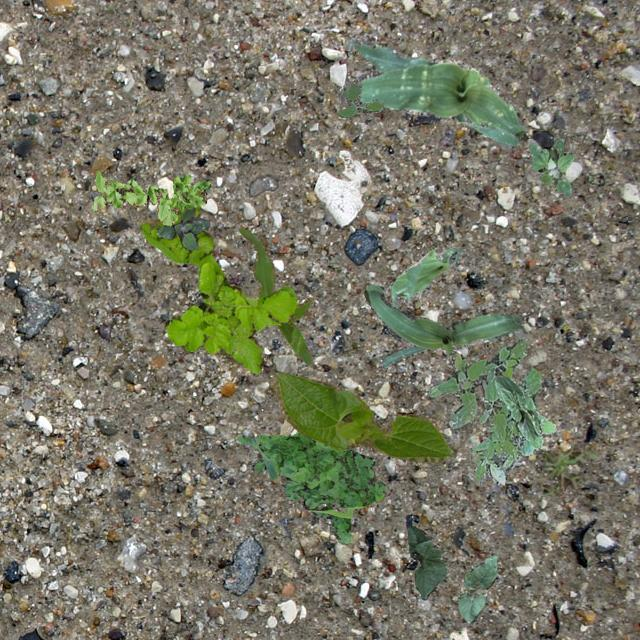crop: (338, 36, 524, 144), (273, 370, 452, 462), (364, 284, 522, 366), (238, 225, 312, 364), (389, 248, 458, 308), (494, 374, 540, 440), (407, 524, 448, 598), (458, 554, 496, 622)
weed: (140, 188, 296, 374), (426, 338, 556, 484), (236, 431, 384, 544), (92, 170, 210, 224), (538, 444, 596, 494), (528, 137, 574, 196), (156, 206, 208, 250), (338, 77, 384, 116)
